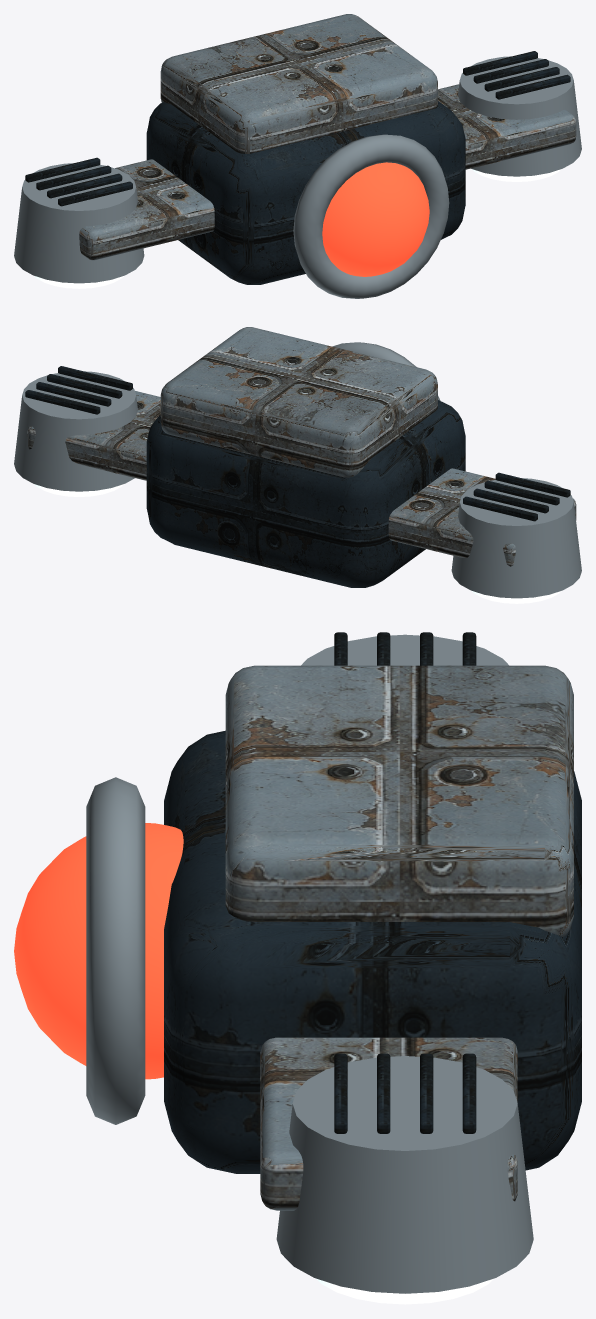
The model's file is drone.glb.
The picture shows the model from 3 angles, top to bottom: view 1: azimuth 30°, elevation 25°; view 2: azimuth 150°, elevation 25°; view 3: azimuth 270°, elevation 25°; orthographic projection. The views are drawn at different scales.
Parts seen in each view (by area): view 1: Drone upper carapace, Drone armored hull, Lens armor, Optical sensor, Thruster plasma; view 2: Drone armored hull, Drone upper carapace, Lens armor, Thruster plasma; view 3: Drone upper carapace, Drone armored hull, Lens armor, Optical sensor, Thruster plasma.
Part boxes in pixels (<box>): Drone upper carapace: <box>79,14,576,260</box>; Drone armored hull: <box>25,51,570,284</box>; Lens armor: <box>14,56,581,298</box>; Optical sensor: <box>322,162,429,276</box>; Thruster plasma: <box>35,169,561,288</box>; Drone armored hull: <box>25,366,570,587</box>; Drone upper carapace: <box>27,327,576,566</box>; Lens armor: <box>14,342,581,598</box>; Thruster plasma: <box>34,484,561,603</box>; Drone upper carapace: <box>225,665,573,1210</box>; Drone armored hull: <box>164,632,581,1173</box>; Lens armor: <box>86,634,533,1293</box>; Optical sensor: <box>14,823,183,1079</box>; Thruster plasma: <box>316,1278,493,1304</box>.
Bounding box in the file's own units: 2.34 × 0.735 × 1.06.
Materials: 5 (2 with a texture image).
